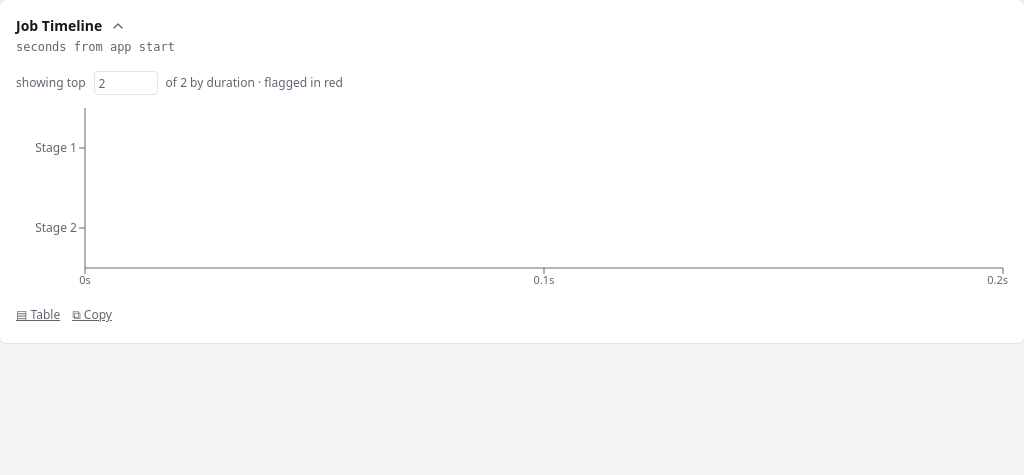
Scenario: Timeline widget › exposes a data table with one row per plotted stage bar
This screenshot has width=1024, height=475.
Click the button "▤ Table" at [38, 315], box [16,307,60,323]
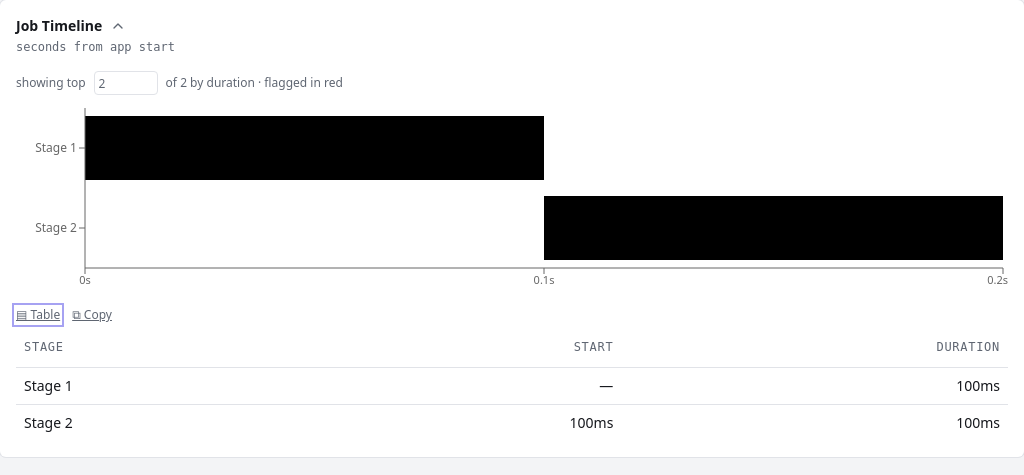
Expected: the number of rows is 3, [16,327,1008,367]; [16,368,1008,404]; [16,404,1008,441]
